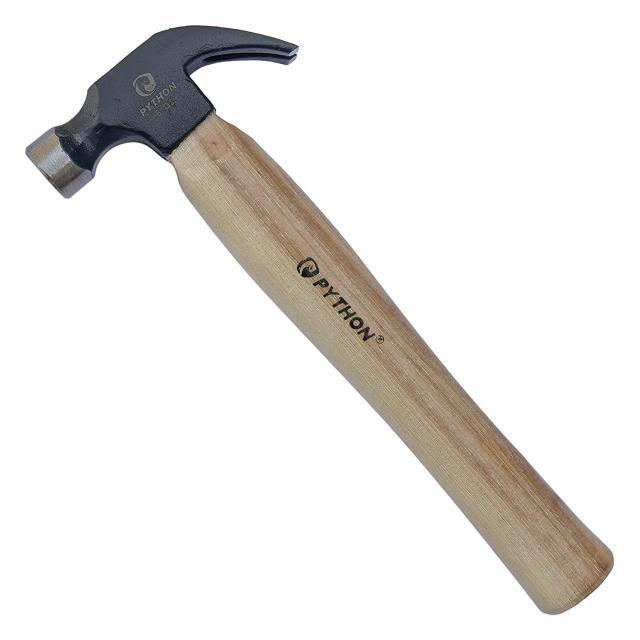hammer: (21, 18, 622, 620)
